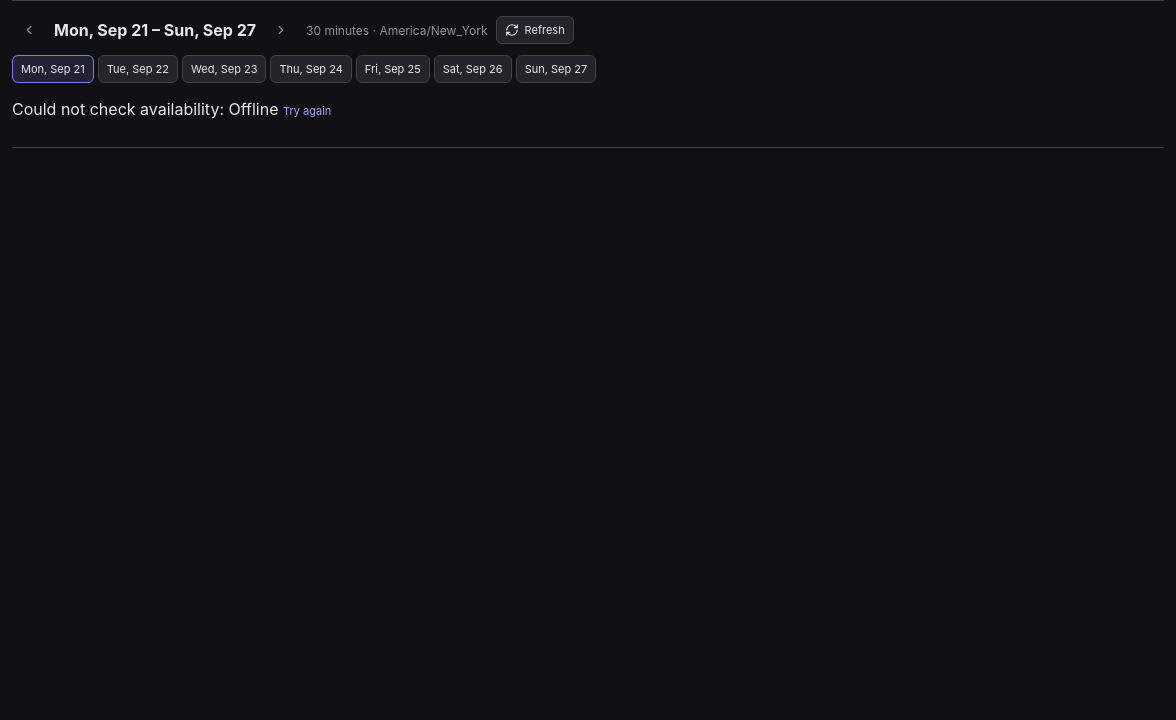
Test: meeting rescheduling › offers retry after a failed availability request
The image size is (1176, 720).
expect the message shows "Offline": met, box [228,99,278,119]
Click the button "Try again" at point(307, 111), box [283,104,331,118]
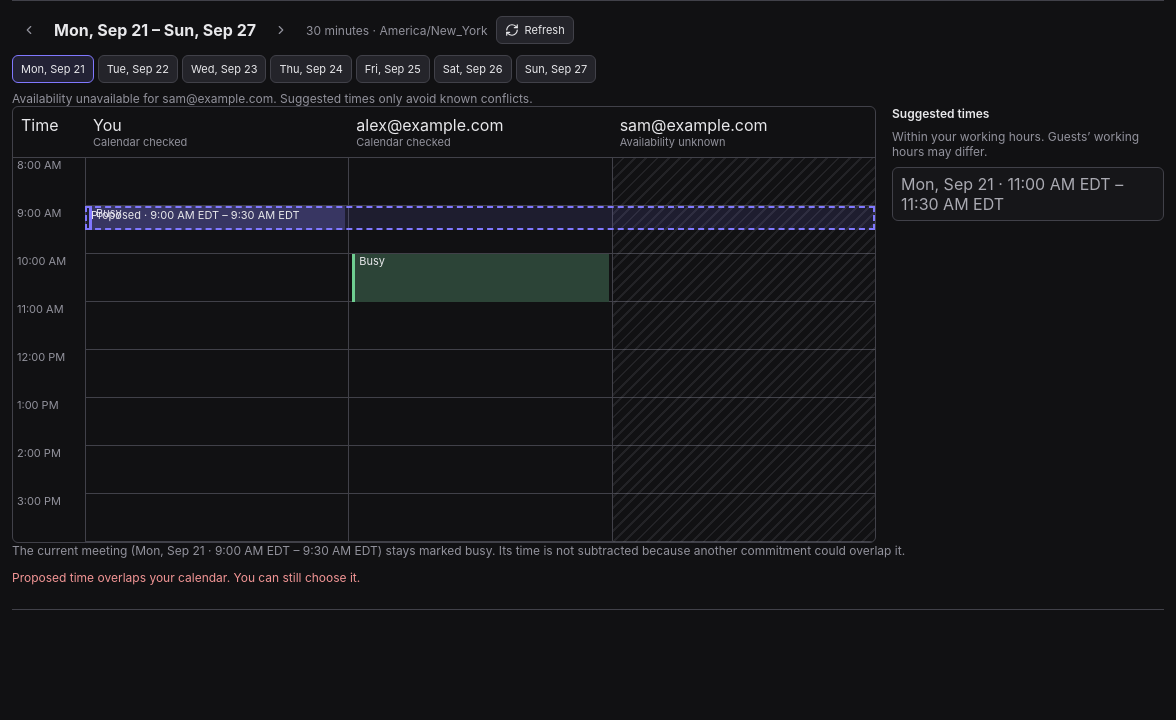
expect the element "Suggested times" is shown: met, box [892,106,1164,221]
